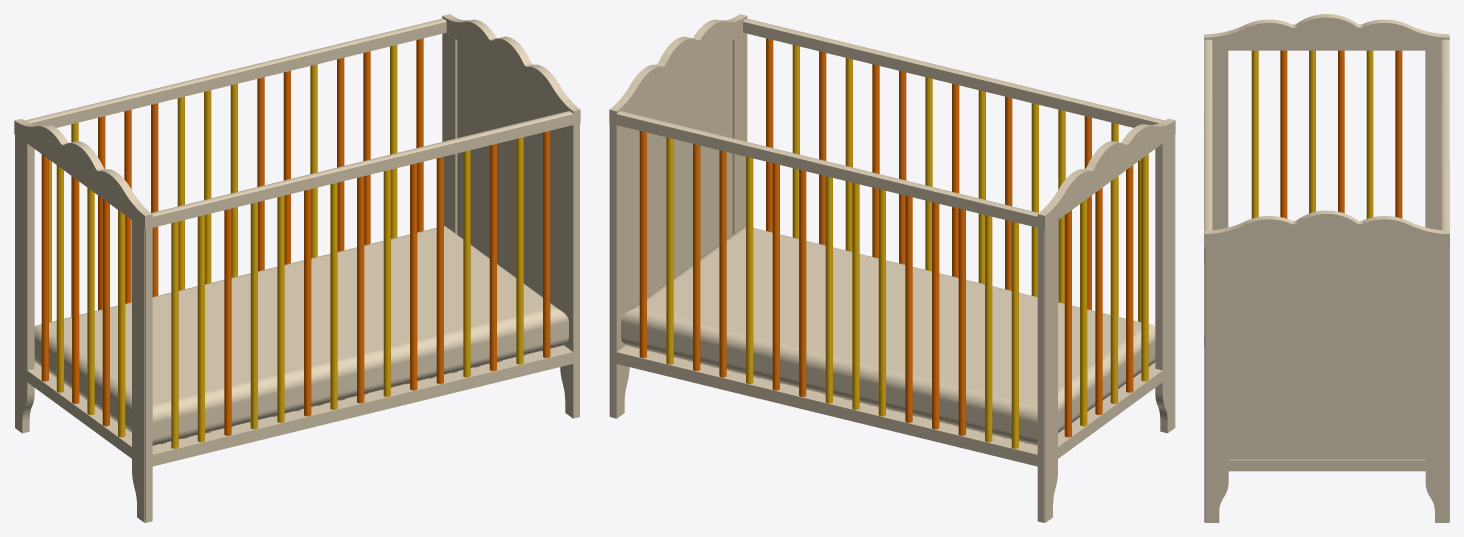
File: cuna.obj
The picture shows the model from 3 angles, left to right: view 1: azimuth 30°, elevation 25°; view 2: azimuth 150°, elevation 25°; view 3: azimuth 270°, elevation 25°; orthographic projection. The views are drawn at different scales.
Visible parts, largest first — view 1: Group_035, Group_034, Group_016, Group_013, Group_018, Group_015, Group_017, Group_019, Group_033, Group_032, Group_020, Group_021 (+35 smaller); view 2: Group_035, Group_034, Group_018, Group_011, Group_016, Group_017, Group_015, Group_020, Group_033, Group_032, Group_019, Group_021 (+36 smaller); view 3: Group_034, Group_032, Group_019, Group_020, Group_033, Group_015, Group_017, Group_009, Group_018, Group_016, barreau_023, barreau_018 (+4 smaller).
Part boxes in pixels (x1,y1,x2,y2): Group_035: [34, 226, 568, 445]; Group_034: [457, 40, 560, 309]; Group_016: [151, 111, 573, 227]; Group_013: [152, 349, 573, 466]; Group_018: [25, 18, 446, 127]; Group_015: [132, 220, 152, 522]; Group_017: [15, 135, 34, 433]; Group_019: [560, 123, 579, 418]; Group_033: [14, 118, 152, 229]; Group_032: [442, 14, 580, 124]; Group_020: [442, 32, 457, 234]; Group_021: [27, 368, 131, 458]; Group_035: [621, 226, 1155, 445]; Group_034: [629, 40, 732, 309]; Group_018: [616, 111, 1038, 227]; Group_011: [616, 349, 1037, 466]; Group_016: [743, 18, 1164, 127]; Group_017: [1037, 220, 1057, 522]; Group_015: [1155, 134, 1175, 433]; Group_020: [609, 123, 629, 418]; Group_033: [1037, 118, 1175, 229]; Group_032: [609, 14, 747, 124]; Group_019: [732, 32, 747, 234]; Group_021: [1058, 368, 1162, 458]; Group_034: [1228, 247, 1425, 459]; Group_032: [1204, 210, 1449, 246]; Group_019: [1204, 247, 1228, 522]; Group_020: [1425, 247, 1449, 522]; Group_033: [1204, 14, 1449, 50]; Group_015: [1204, 50, 1228, 263]; Group_017: [1425, 50, 1441, 230]; Group_009: [1228, 459, 1425, 471]; Group_018: [1441, 39, 1449, 230]; Group_016: [1204, 39, 1212, 230]; barreau_023: [1251, 50, 1258, 218]; barreau_018: [1395, 50, 1402, 218].
Bounding box in the file's own units: 24.56 × 17.71 × 12.76.
Materials: 3 (3 with a texture image).
